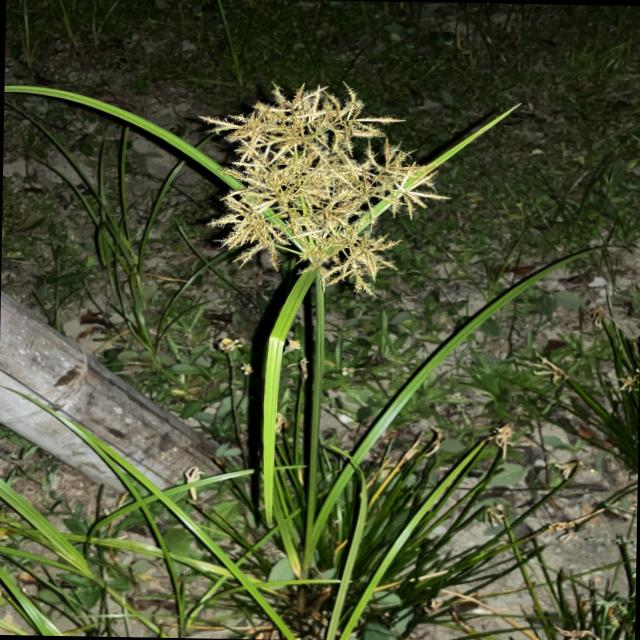cyperus: (189, 73, 462, 303), (218, 331, 260, 378), (530, 351, 576, 389), (483, 414, 522, 452), (288, 332, 310, 376), (610, 369, 638, 397)
